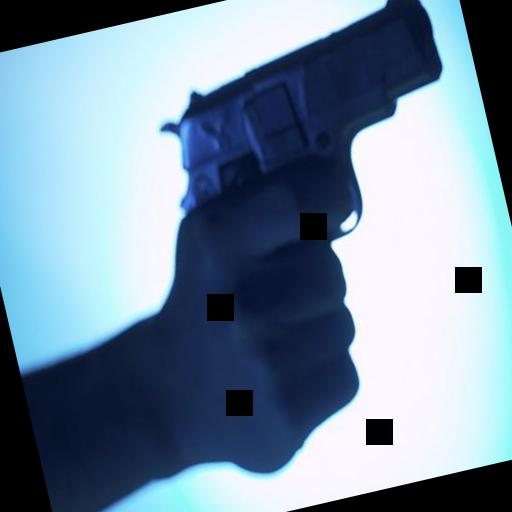Handgun: (134, 0, 476, 283)
